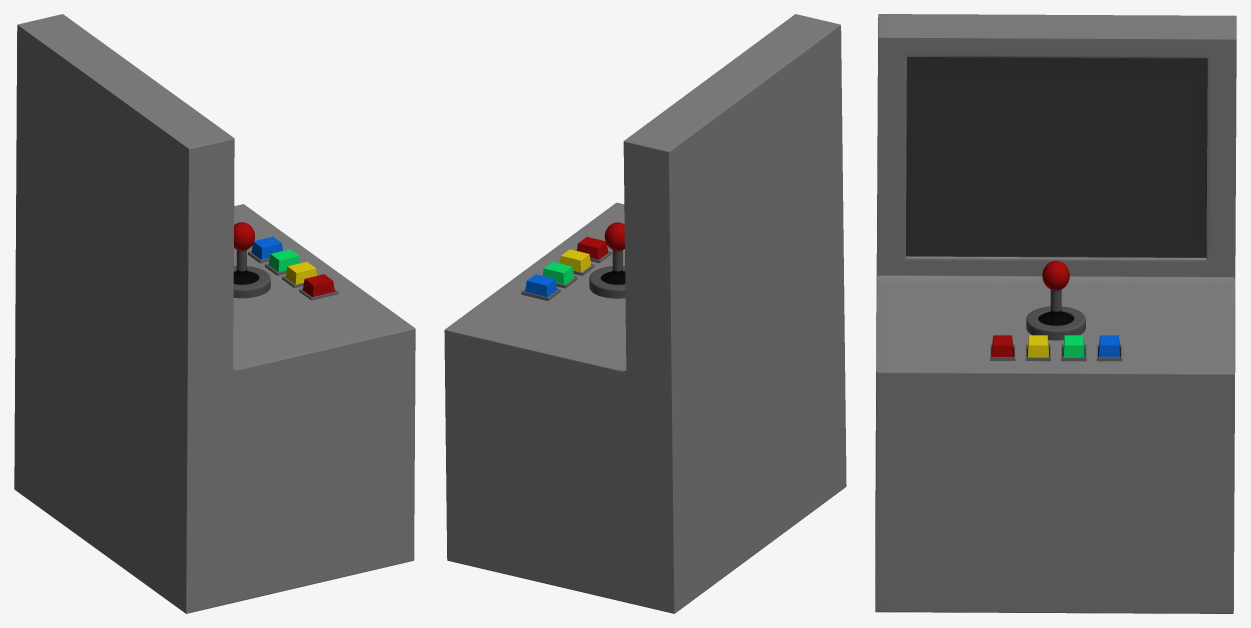
File: SCH_DroptheBeatMachine.fbx
3 renders of one model, left to right at view 1: azimuth 30°, elevation 25°; view 2: azimuth 150°, elevation 25°; view 3: azimuth 270°, elevation 25°, orthographic. The views are drawn at different scales.
Parts seen in each view (by area): view 1: pCube6; view 2: pCube6; view 3: pCube6.
Boxes of the visible parts, box(x1,y1,x2,y2) form: pCube6: box(14, 14, 415, 613); pCube6: box(444, 14, 846, 613); pCube6: box(875, 14, 1236, 613).
Bounding box in the file's own units: 11.67 × 22.61 × 15.23.
